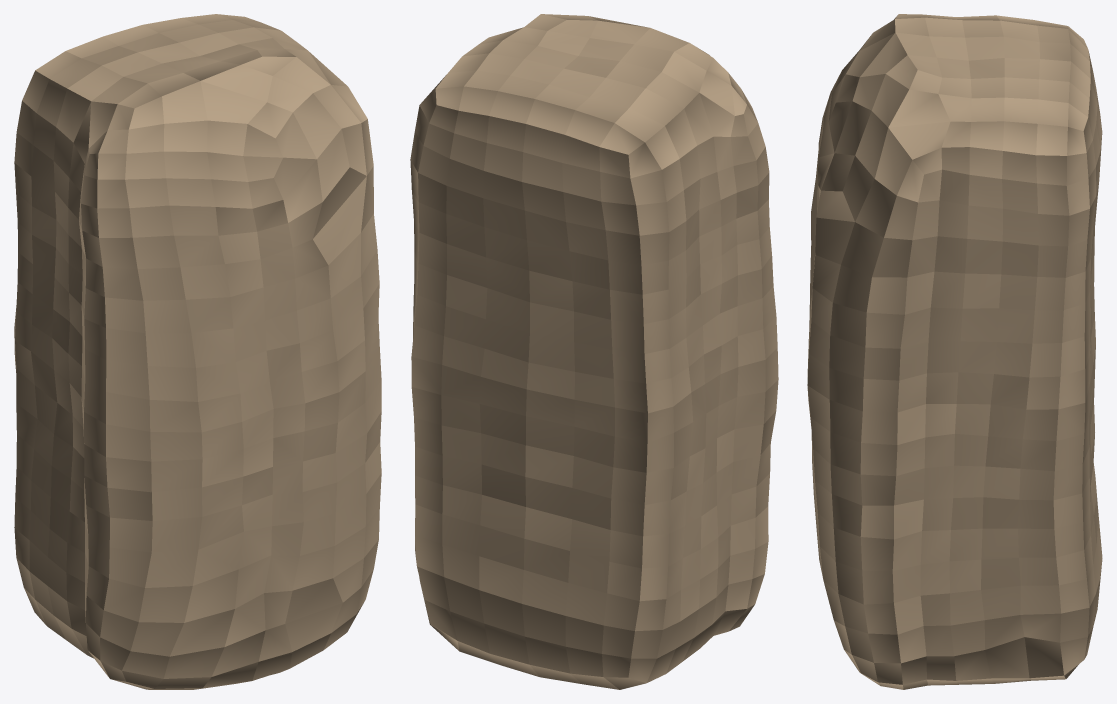
The model's file is MeshBread1BMesh_0.obj.
3 views of the same model, side by side, from view 1: azimuth 30°, elevation 25°; view 2: azimuth 150°, elevation 25°; view 3: azimuth 270°, elevation 25° (orthographic).
Parts seen in each view (by area): view 1: Bread1BMesh; view 2: Bread1BMesh; view 3: Bread1BMesh.
Boxes of the visible parts, x1,y1,x2,y2 form: Bread1BMesh: [14, 14, 381, 689]; Bread1BMesh: [410, 14, 778, 689]; Bread1BMesh: [807, 14, 1102, 689].
Bounding box in the file's own units: 0.1388 × 0.2816 × 0.1224.
